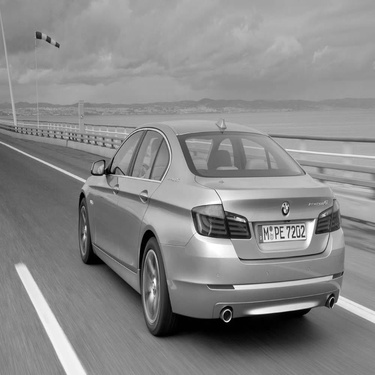car: (68, 111, 347, 342)
